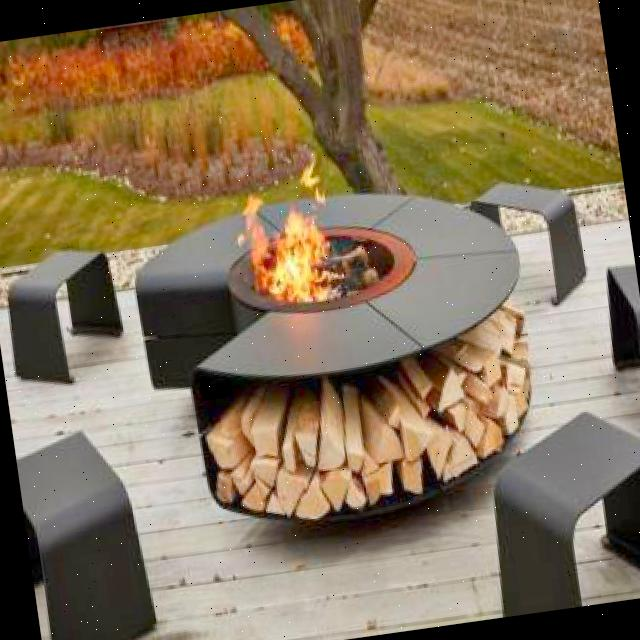fire: (226, 159, 348, 306)
